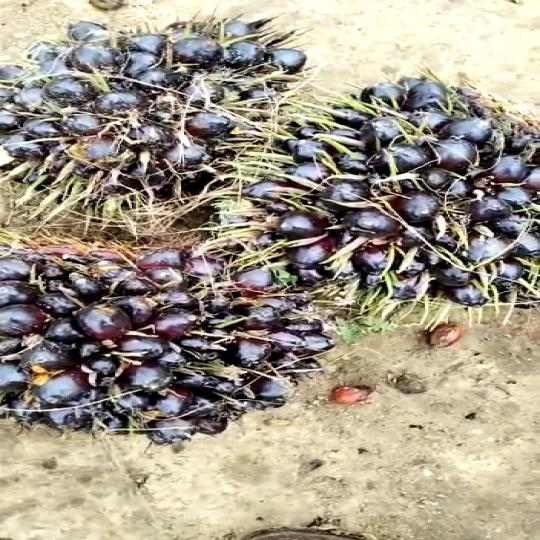mentah: (0, 238, 344, 454), (0, 5, 316, 235), (256, 72, 540, 308)
